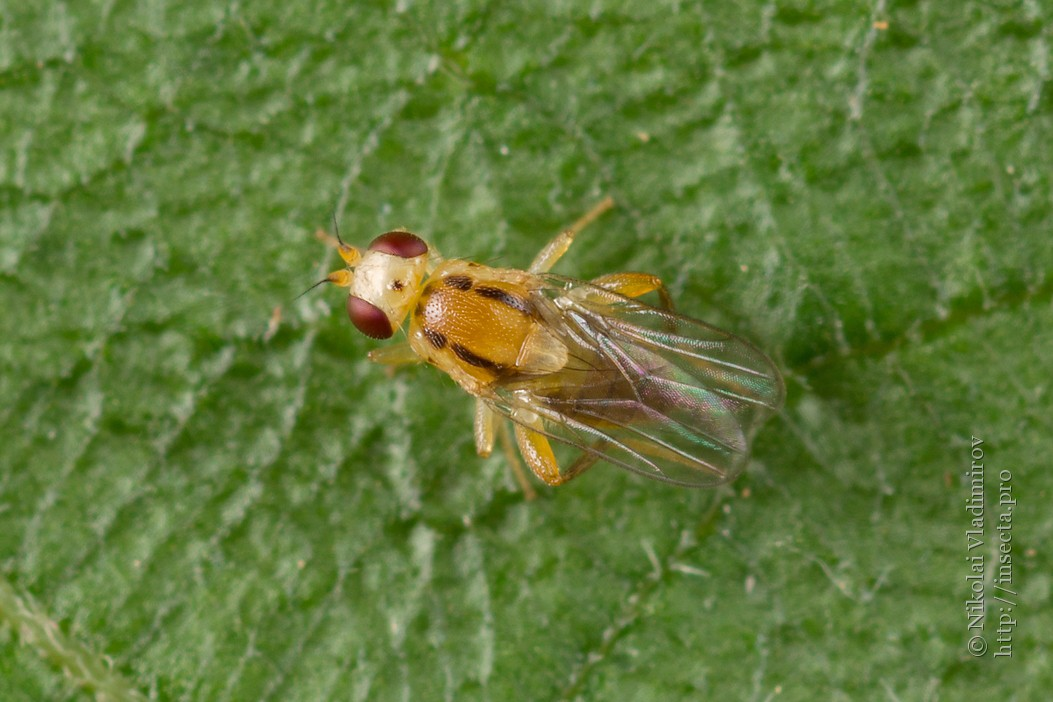Chloropidae: (285, 195, 788, 509)
